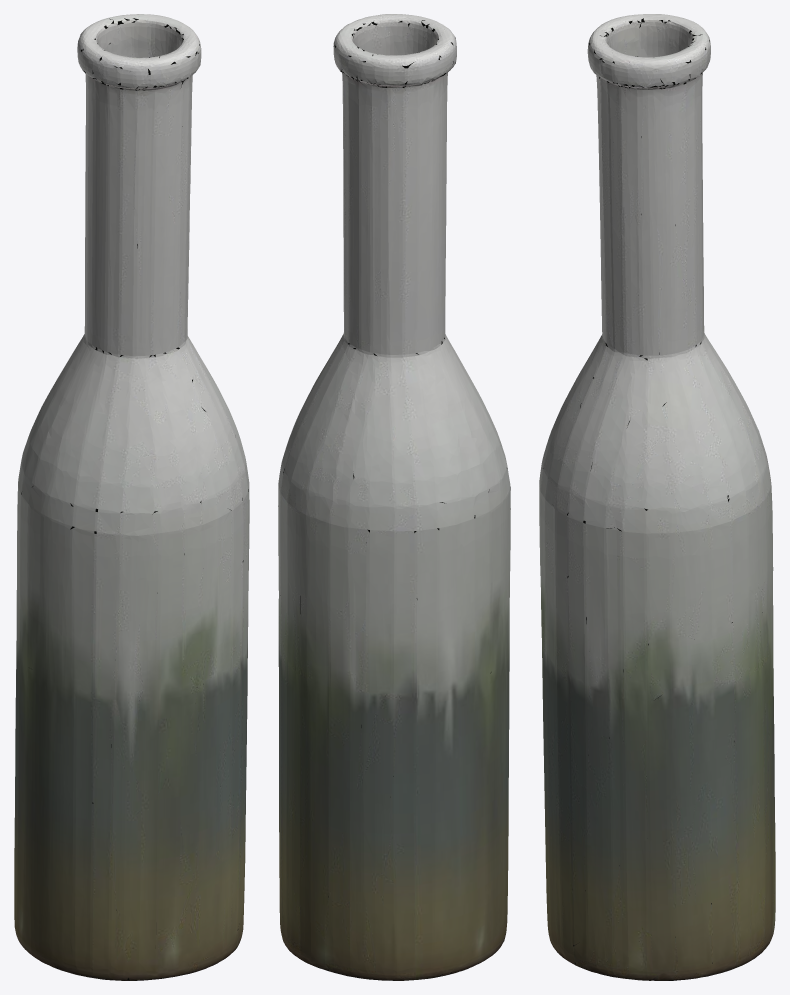
File: pair_of_glass_vases_with_plants_on_console_table_000.glb
3 renders of one model, left to right at view 1: azimuth 30°, elevation 25°; view 2: azimuth 150°, elevation 25°; view 3: azimuth 270°, elevation 25°, orthographic.
Parts seen in each view (by area): view 1: phase2_final_pair_of_glass_vases_with_plants_on_console_tabl; view 2: phase2_final_pair_of_glass_vases_with_plants_on_console_tabl; view 3: phase2_final_pair_of_glass_vases_with_plants_on_console_tabl.
Boxes of the visible parts, box(x1,y1,x2,y2) form: phase2_final_pair_of_glass_vases_with_plants_on_console_tabl: box(14, 14, 249, 980); phase2_final_pair_of_glass_vases_with_plants_on_console_tabl: box(278, 14, 510, 980); phase2_final_pair_of_glass_vases_with_plants_on_console_tabl: box(539, 14, 775, 980).
Bounding box in the file's own units: 0.0383 × 0.1631 × 0.0388.
Materials: 1 (1 with a texture image).
